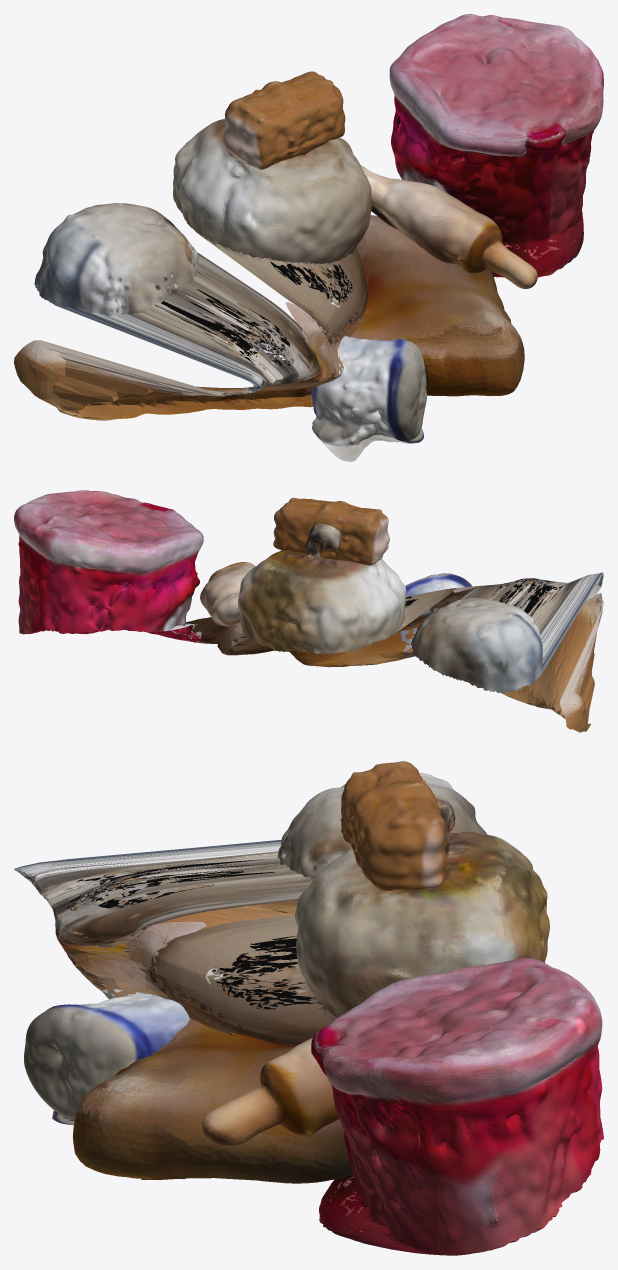
File: gen3dsr_no_bg.glb
3 renders of one model, top to bottom at view 1: azimuth 30°, elevation 25°; view 2: azimuth 150°, elevation 25°; view 3: azimuth 270°, elevation 25°, orthographic. The views are drawn at different scales.
Visible parts, largest first — view 1: 2.obj, 4.obj, 6.obj, 1.obj, 3.obj, 5.obj, 0.obj; view 2: 2.obj, 1.obj, 6.obj, 4.obj, 0.obj, 5.obj, 3.obj; view 3: 2.obj, 1.obj, 4.obj, 6.obj, 3.obj, 0.obj, 5.obj.
Part boxes in pixels (x1,y1,x2,y2): 2.obj: (389, 14, 603, 277); 4.obj: (14, 215, 524, 420); 6.obj: (34, 203, 318, 393); 1.obj: (173, 118, 371, 344); 3.obj: (311, 336, 426, 461); 5.obj: (361, 165, 537, 288); 0.obj: (223, 71, 345, 169); 2.obj: (14, 490, 203, 643); 1.obj: (237, 523, 458, 654); 6.obj: (411, 572, 603, 692); 4.obj: (186, 585, 603, 732); 0.obj: (273, 497, 389, 565); 5.obj: (200, 562, 255, 626); 3.obj: (400, 573, 471, 657); 2.obj: (311, 958, 603, 1255); 1.obj: (149, 794, 549, 1046); 4.obj: (56, 900, 353, 1183); 6.obj: (14, 773, 487, 947); 3.obj: (24, 989, 189, 1125); 0.obj: (340, 761, 446, 890); 5.obj: (201, 1037, 339, 1147).
Size of the model in its own units: 0.7938 by 0.3237 by 0.5136.
7 materials, 7 textured.
